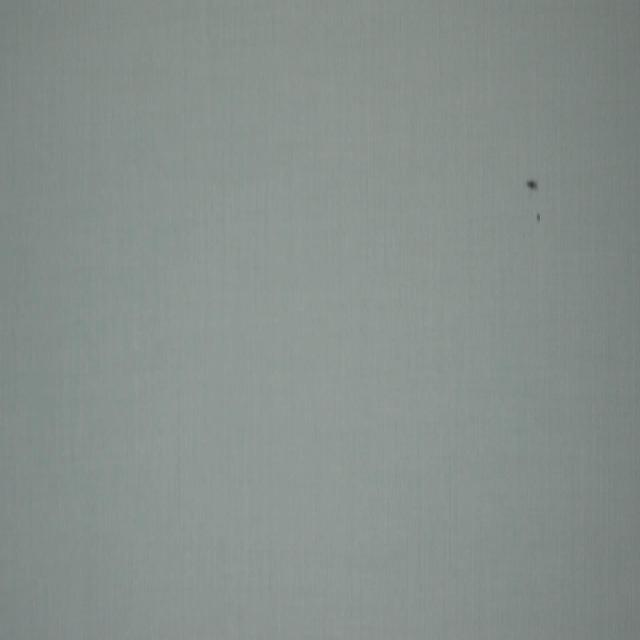dirty: (526, 180, 538, 190), (535, 212, 539, 222)
